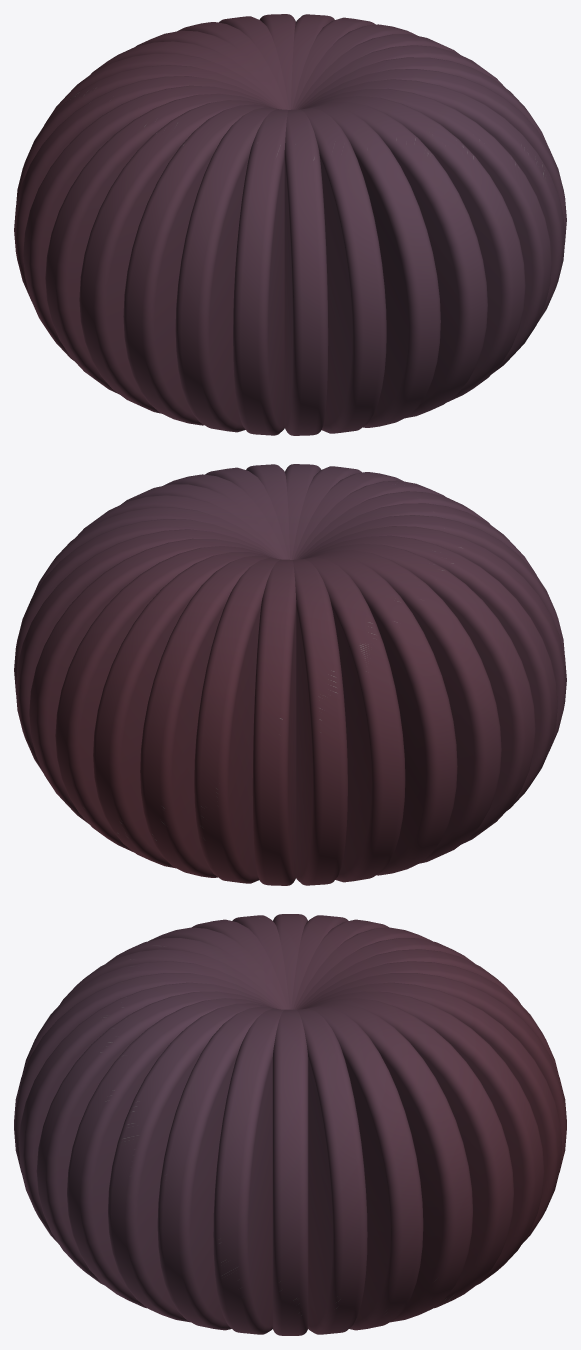
Rendered from 02_pumpod_inactive.glb.
3 views of the same model, one above another, from view 1: azimuth 30°, elevation 25°; view 2: azimuth 150°, elevation 25°; view 3: azimuth 270°, elevation 25° (orthographic).
Visible parts, largest first — view 1: inactive; view 2: inactive; view 3: inactive.
Boxes of the visible parts, left/top/right/bottom form: inactive: left=14, top=14, right=566, bottom=435; inactive: left=14, top=464, right=566, bottom=885; inactive: left=14, top=914, right=566, bottom=1335.
Bounding box in the file's own units: 0.1404 × 0.0827 × 0.1404.
1 material, 1 textured.
